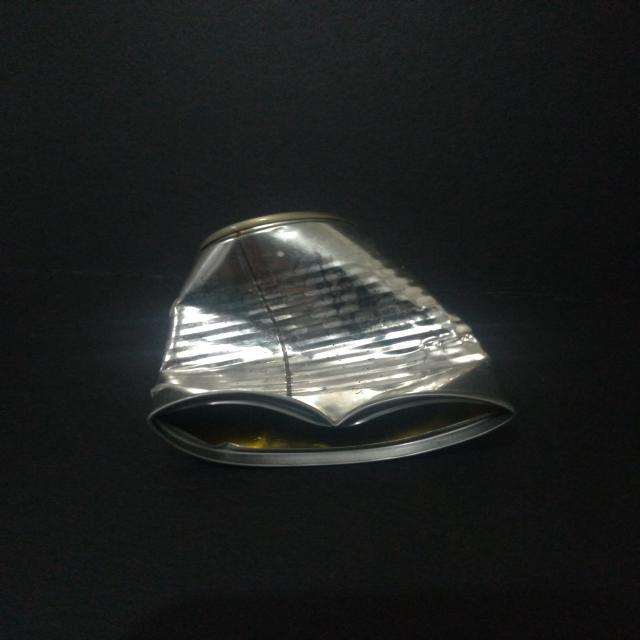metal-can: (144, 208, 518, 472)
